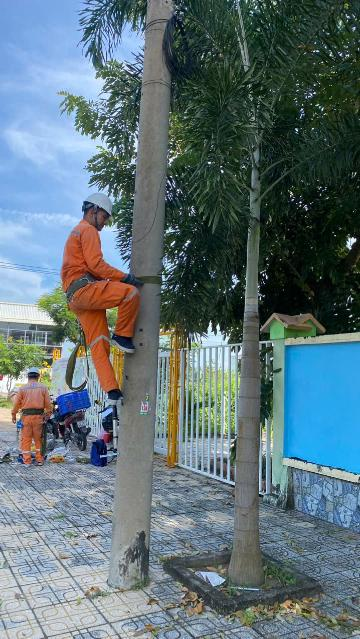gloves: (120, 268, 145, 293)
harness: (46, 271, 111, 300), (17, 407, 52, 420)
helmet: (72, 189, 126, 227), (25, 364, 45, 379)
shoes: (105, 330, 135, 355), (101, 384, 127, 407), (17, 461, 34, 468), (36, 457, 45, 467)
